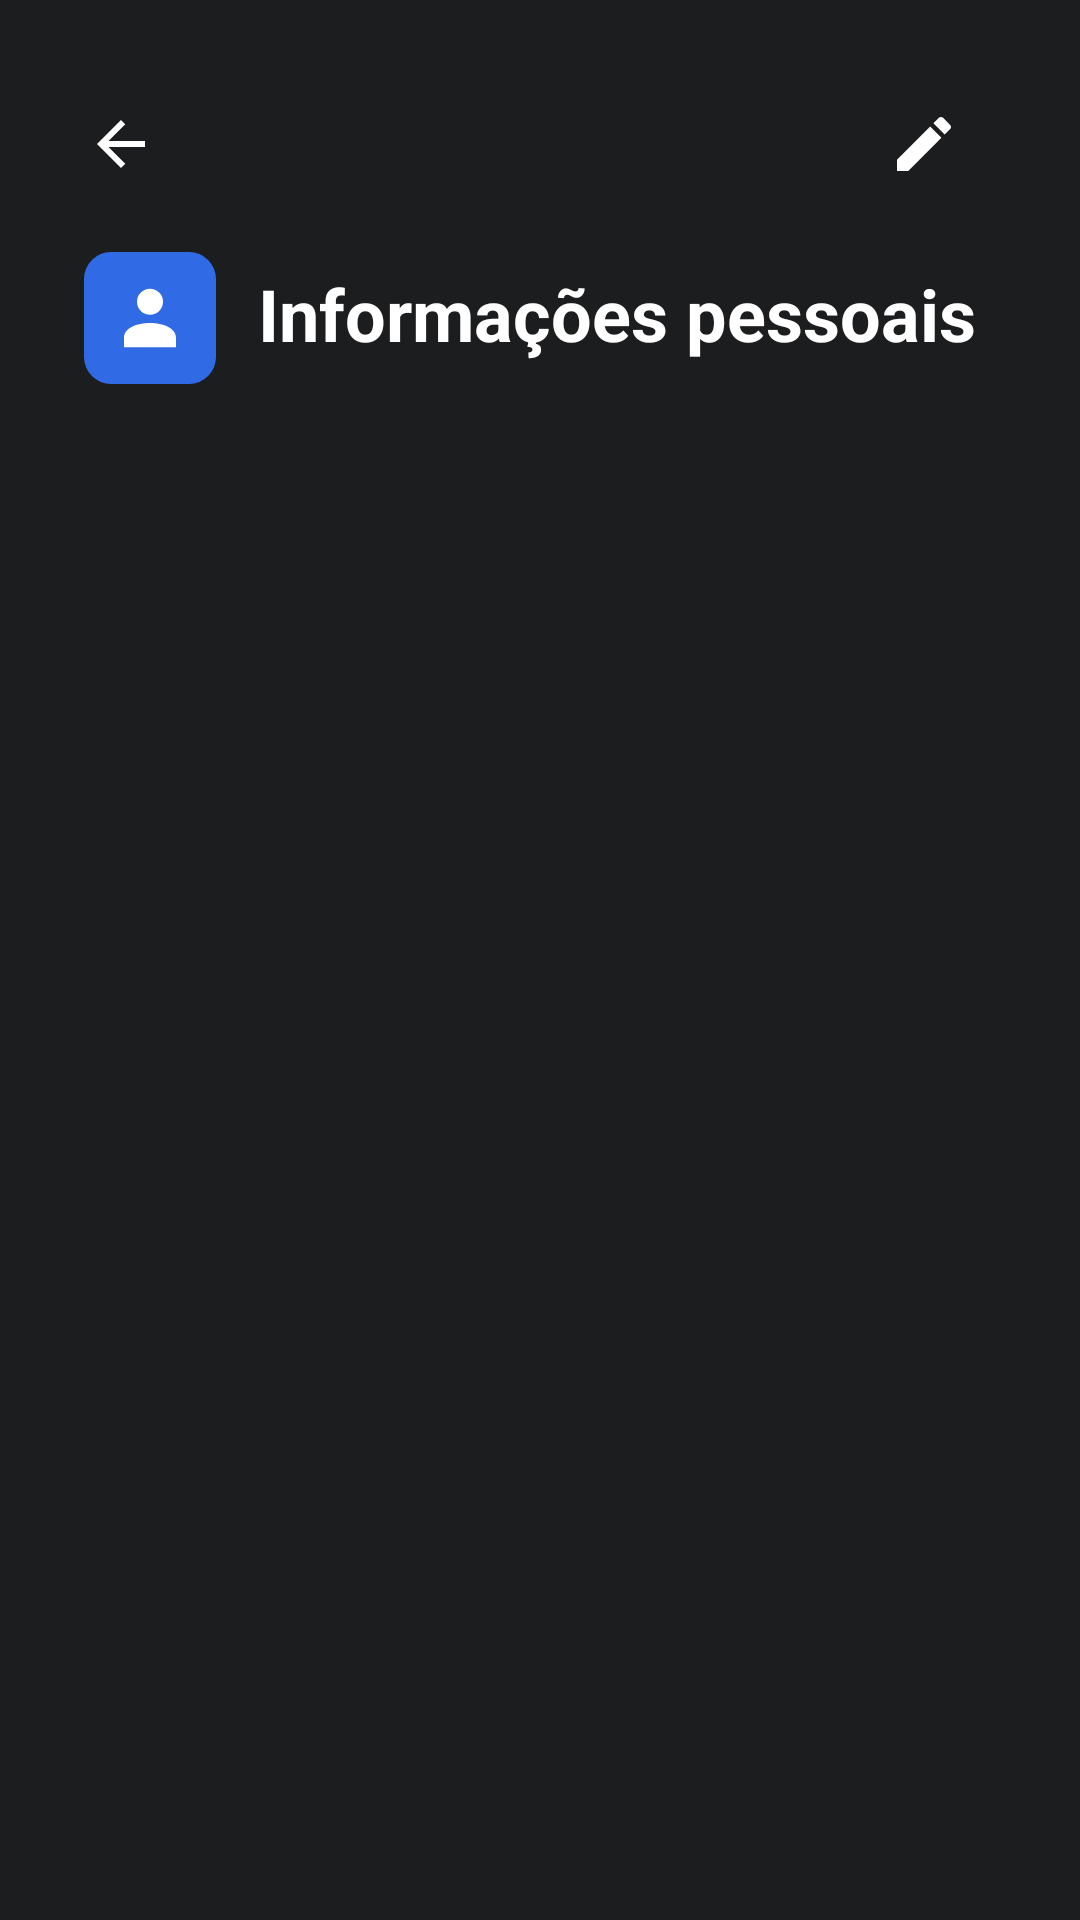

Named icons in this screenshot (1080 × 1920) and their centers, point (x, y):
home person: point (150, 318)
